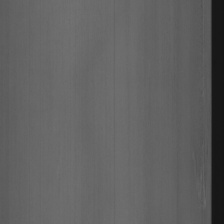silk_spot: (189, 143, 209, 211)
